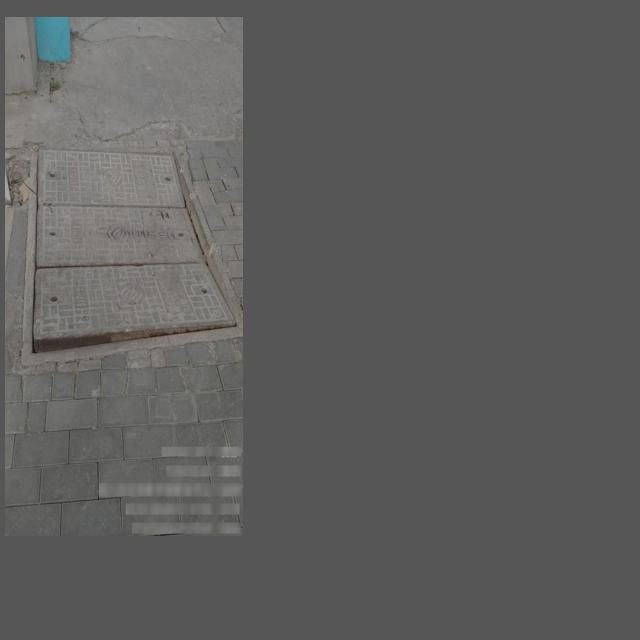uncovered: (20, 145, 239, 365)
